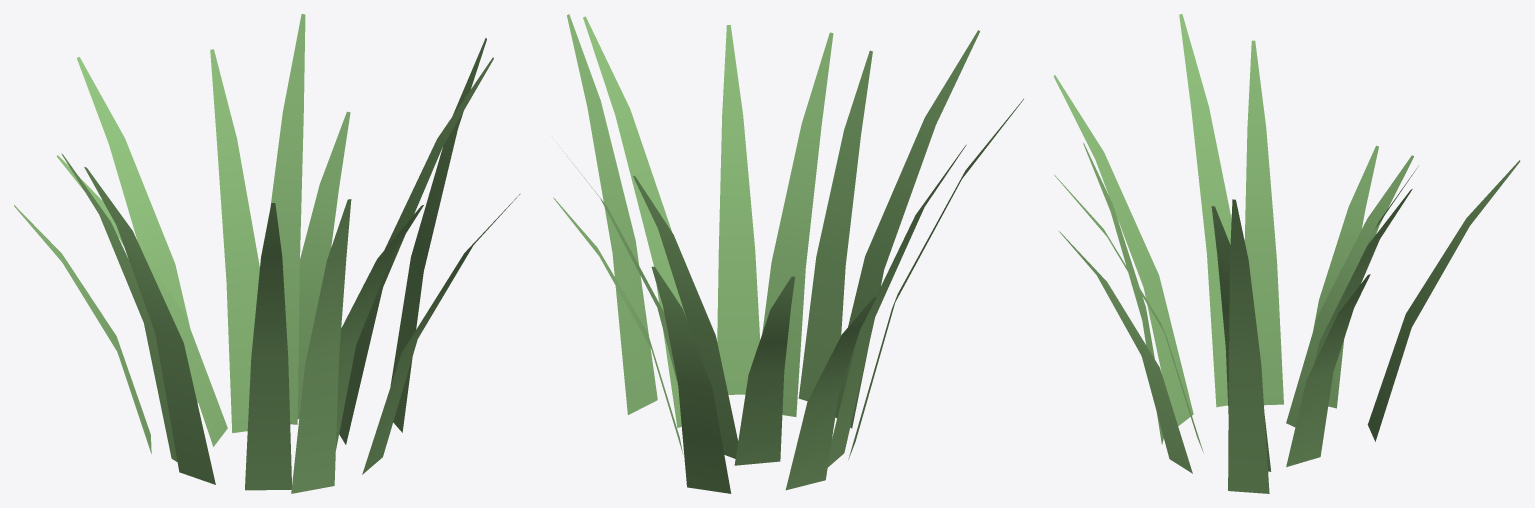
Rendered from OW_GrassTuft.fbx.
3 renders of one model, left to right at view 1: azimuth 30°, elevation 25°; view 2: azimuth 150°, elevation 25°; view 3: azimuth 270°, elevation 25°, orthographic. The views are drawn at different scales.
Parts seen in each view (by area): view 1: OW_GrassTuft; view 2: OW_GrassTuft; view 3: OW_GrassTuft.
Boxes of the visible parts, box(x1,y1,x2,y2) form: OW_GrassTuft: box(14, 14, 520, 493); OW_GrassTuft: box(552, 14, 1023, 493); OW_GrassTuft: box(1053, 14, 1520, 493).
Bounding box in the file's own units: 0.5051 × 0.4144 × 0.5326.
